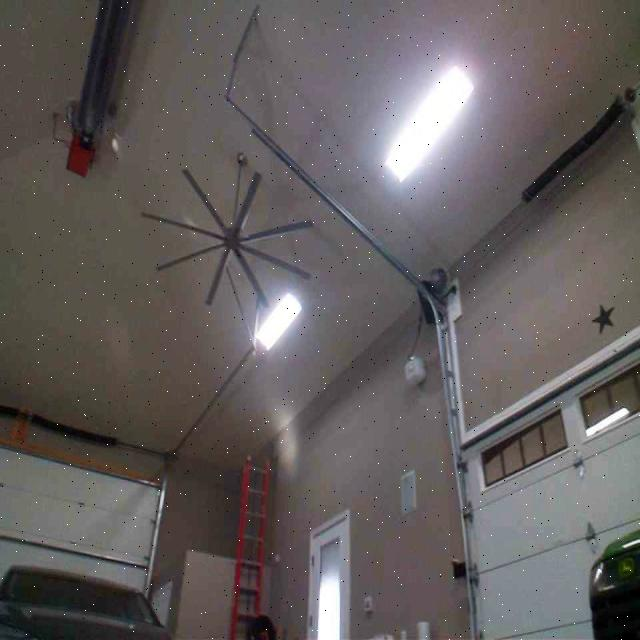star_black: (591, 302, 614, 332)
